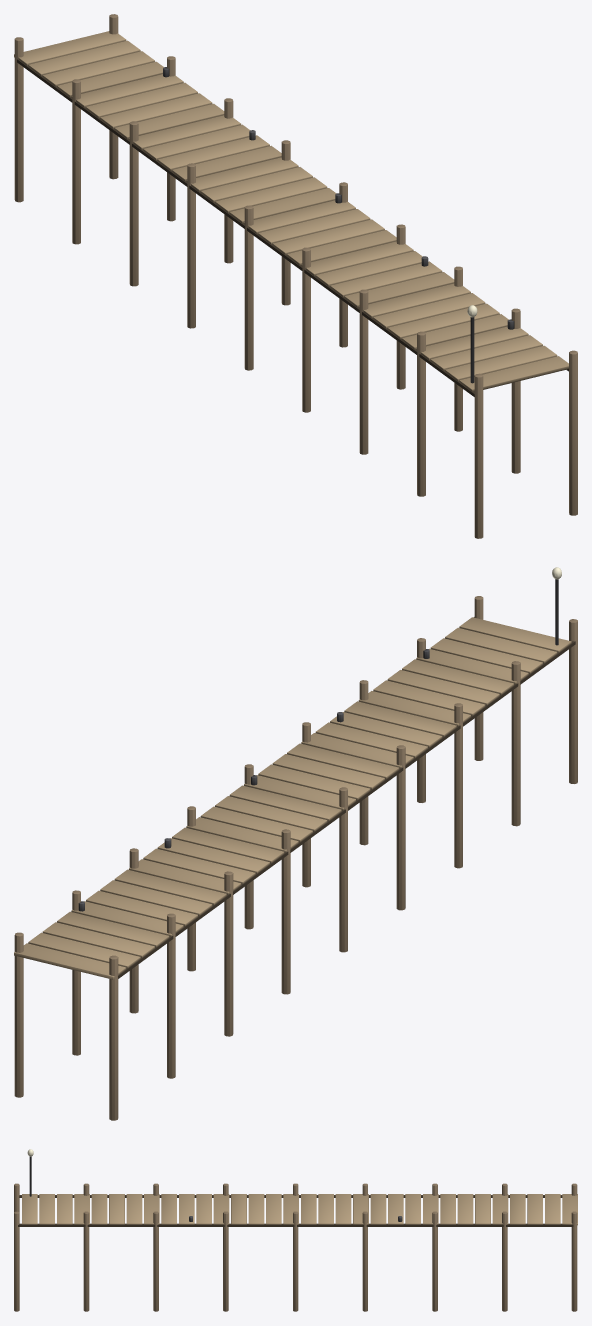
The model's file is pier.glb.
3 renders of one model, top to bottom at view 1: azimuth 30°, elevation 25°; view 2: azimuth 150°, elevation 25°; view 3: azimuth 270°, elevation 25°, orthographic. The views are drawn at different scales.
Parts seen in each view (by area): view 1: boat_plank, boat_post, boat_ironb; view 2: boat_plank, boat_post; view 3: boat_plank, boat_post.
Boxes of the visible parts, box(x1,y1,x2,y2) form: boat_plank: box(14, 31, 568, 391); boat_post: box(14, 14, 577, 538); boat_ironb: box(163, 67, 514, 383); boat_plank: box(14, 617, 571, 979); boat_post: box(14, 596, 577, 1120); boat_plank: box(22, 1194, 577, 1225); boat_post: box(14, 1183, 577, 1311).
Bounding box in the file's own units: 4.12 × 8.52 × 32.36.
